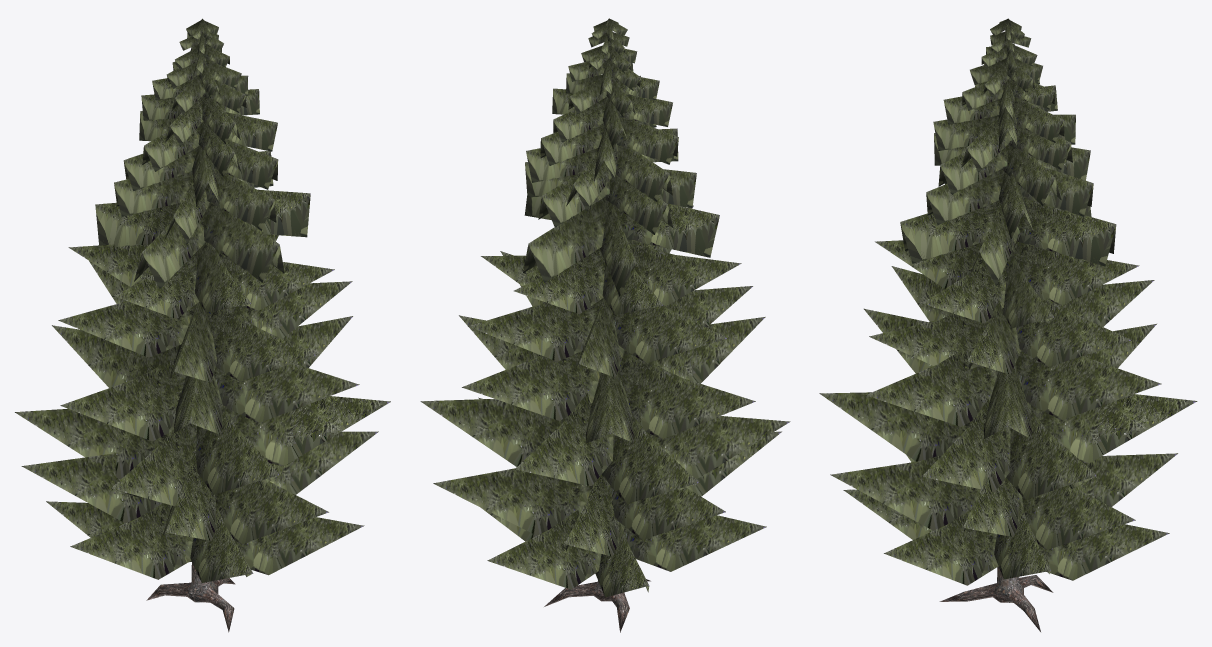
Rendered from tree.glb.
The picture shows the model from 3 angles, left to right: view 1: azimuth 30°, elevation 25°; view 2: azimuth 150°, elevation 25°; view 3: azimuth 270°, elevation 25°; orthographic projection.
Parts seen in each view (by area): view 1: Spruce; view 2: Spruce; view 3: Spruce.
Boxes of the visible parts, box(x1,y1,x2,y2) form: Spruce: box(15, 18, 390, 632); Spruce: box(420, 18, 790, 632); Spruce: box(819, 18, 1197, 631).
Size of the model in its own units: 6.15 by 11.53 by 6.64.
Materials: 2 (2 with a texture image).
